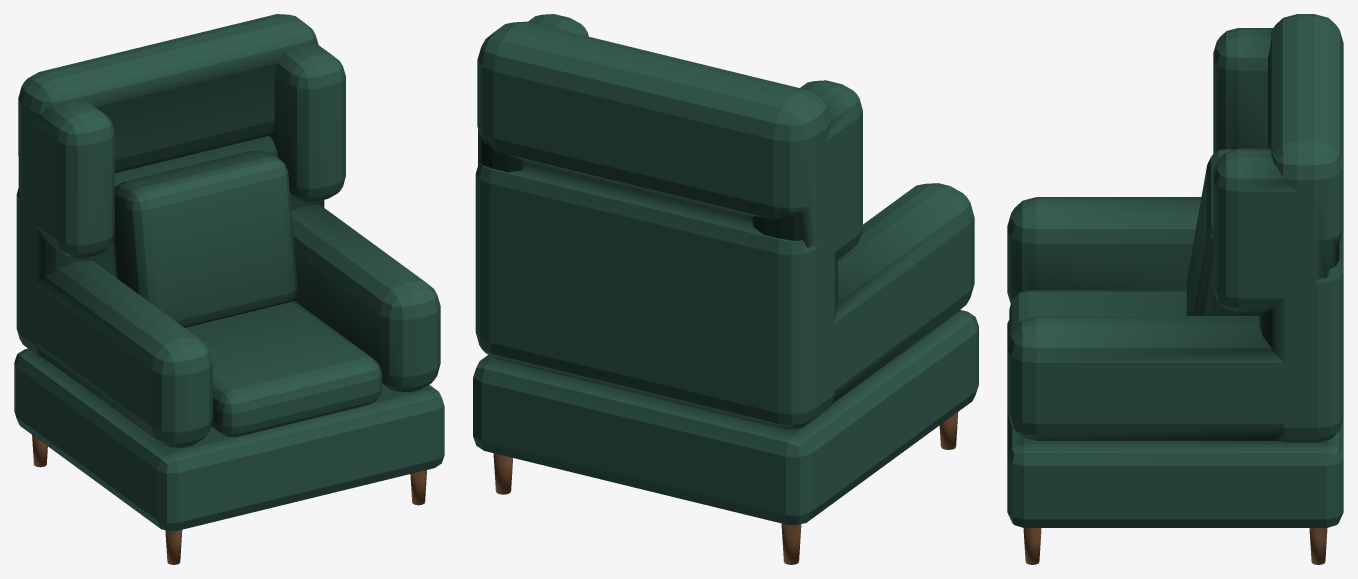
File: armchairWingback.glb
The picture shows the model from 3 angles, left to right: view 1: azimuth 30°, elevation 25°; view 2: azimuth 150°, elevation 25°; view 3: azimuth 270°, elevation 25°; orthographic projection. The views are drawn at different scales.
Visible parts, largest first — view 1: sofa, seat; view 2: sofa; view 3: sofa, seat.
Part boxes in pixels (bbox=[...]): sofa: bbox=[14, 14, 444, 564]; seat: bbox=[185, 300, 382, 437]; sofa: bbox=[473, 14, 978, 564]; sofa: bbox=[1007, 14, 1343, 564]; seat: bbox=[1009, 290, 1186, 337].
Bounding box in the file's own units: 0.84 × 1.1 × 0.8.
